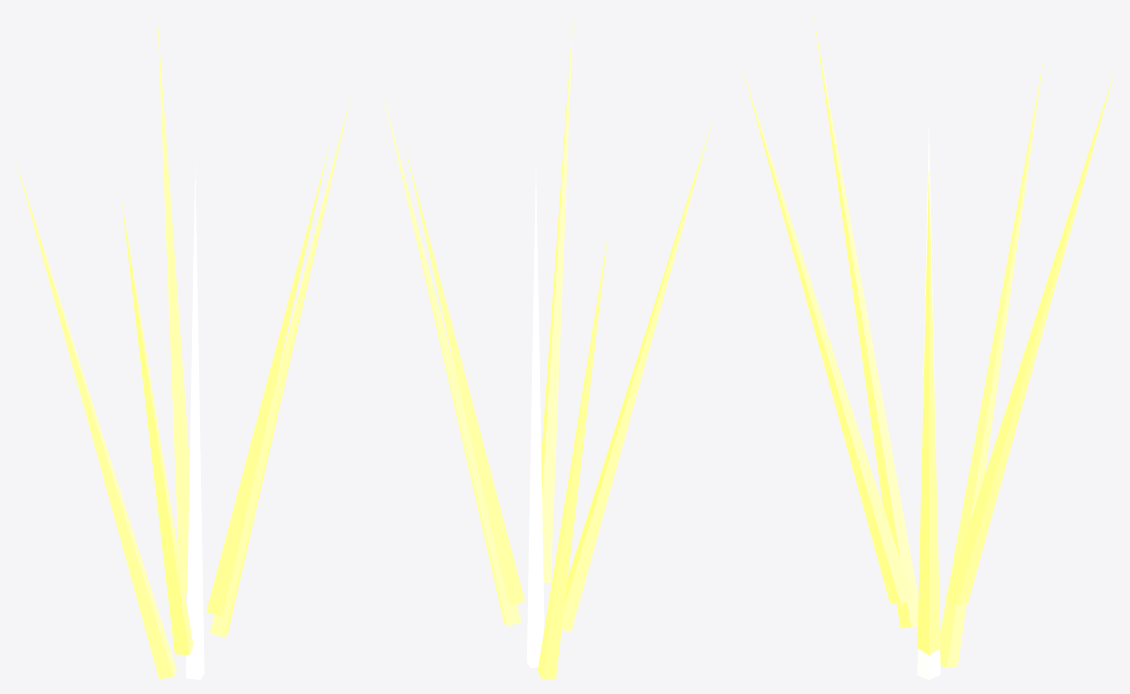
The model's file is vfx_tracer_pellet.glb.
The picture shows the model from 3 angles, left to right: view 1: azimuth 30°, elevation 25°; view 2: azimuth 150°, elevation 25°; view 3: azimuth 270°, elevation 25°; orthographic projection. The views are drawn at different scales.
Visible parts, largest first — view 1: VFX_Tracer_Pellet; view 2: VFX_Tracer_Pellet; view 3: VFX_Tracer_Pellet.
Boxes of the visible parts, <box> form: VFX_Tracer_Pellet: <box>15,16,351,679</box>; VFX_Tracer_Pellet: <box>382,19,712,679</box>; VFX_Tracer_Pellet: <box>743,16,1114,679</box>.
Size of the model in its own units: 0.2442 by 0.4817 by 0.2568.
